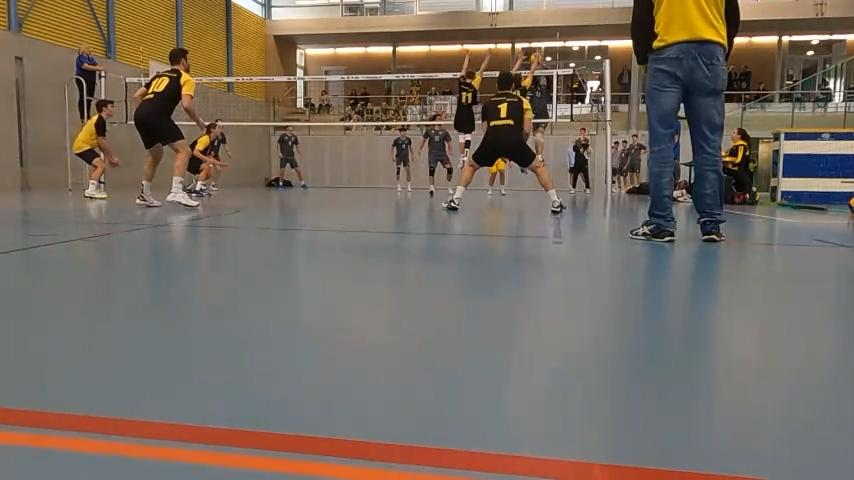Attack: (519, 66, 554, 168)
Block: (454, 37, 491, 169), (510, 41, 541, 108)
Player: (443, 71, 564, 213), (133, 48, 205, 206), (72, 99, 118, 198), (187, 122, 227, 195), (418, 113, 452, 196), (277, 125, 308, 189), (391, 126, 412, 191), (487, 158, 508, 195), (211, 125, 232, 160)
ball: (526, 52, 540, 65)
